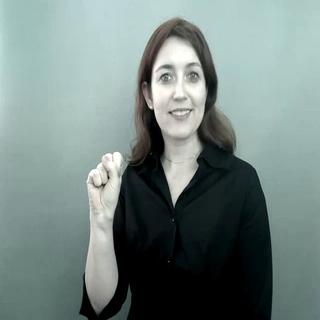yes: (80, 149, 132, 205)
